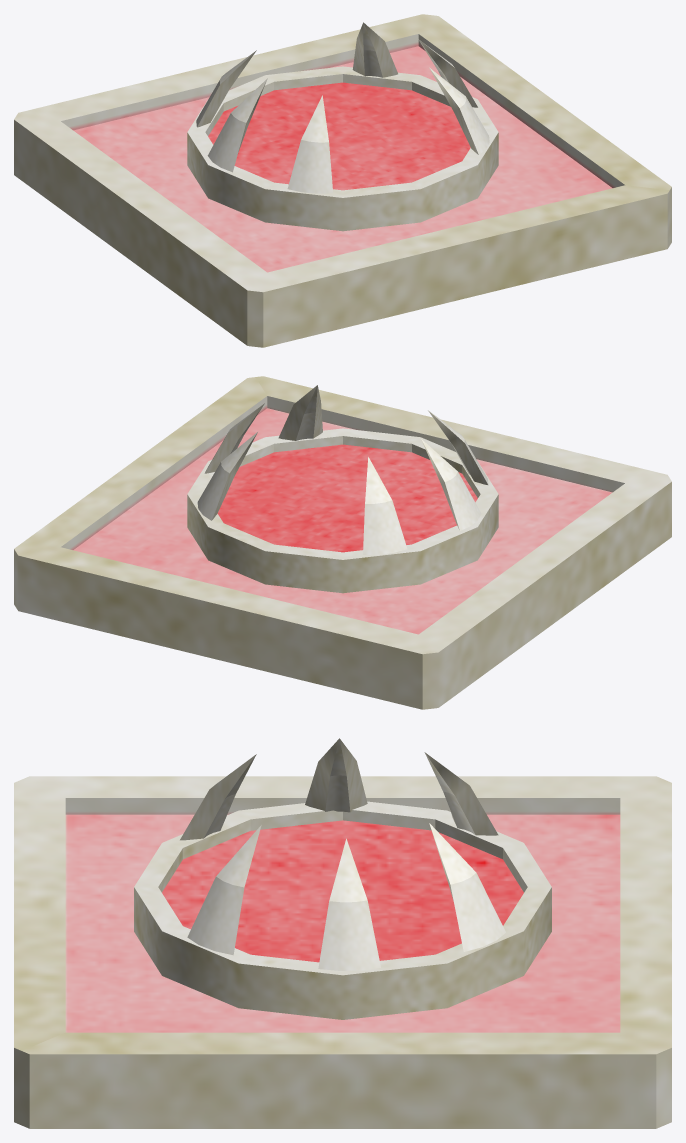
Rendered from Trap.fbx.
The picture shows the model from 3 angles, top to bottom: view 1: azimuth 30°, elevation 25°; view 2: azimuth 150°, elevation 25°; view 3: azimuth 270°, elevation 25°; orthographic projection. The views are drawn at different scales.
Visible parts, largest first — view 1: Object005; view 2: Object005; view 3: Object005.
Part boxes in pixels (x1=…): Object005: x1=14, y1=14, x2=671, y2=347; Object005: x1=14, y1=376, x2=671, y2=709; Object005: x1=14, y1=738, x2=671, y2=1128.
Bounding box in the file's own units: 31.5 × 10.65 × 31.5.
Materials: 1 (1 with a texture image).
